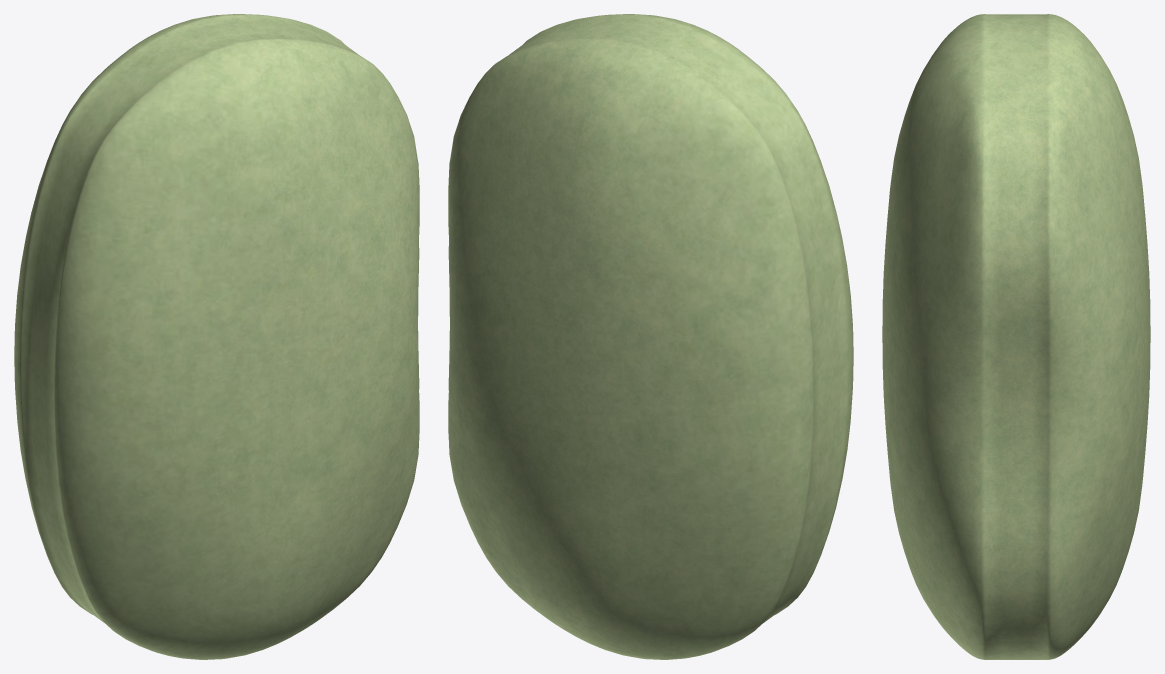
File: otsuka_tablet_tantai_export.glb
3 renders of one model, left to right at view 1: azimuth 30°, elevation 25°; view 2: azimuth 150°, elevation 25°; view 3: azimuth 270°, elevation 25°, orthographic.
Visible parts, largest first — view 1: mihon; view 2: mihon; view 3: mihon.
Boxes of the visible parts, left/top/right/bottom form: mihon: left=14, top=14, right=419, bottom=659; mihon: left=448, top=14, right=853, bottom=659; mihon: left=882, top=14, right=1150, bottom=659.
Bounding box in the file's own units: 0.014 × 0.0225 × 0.009.
1 material, 1 textured.
